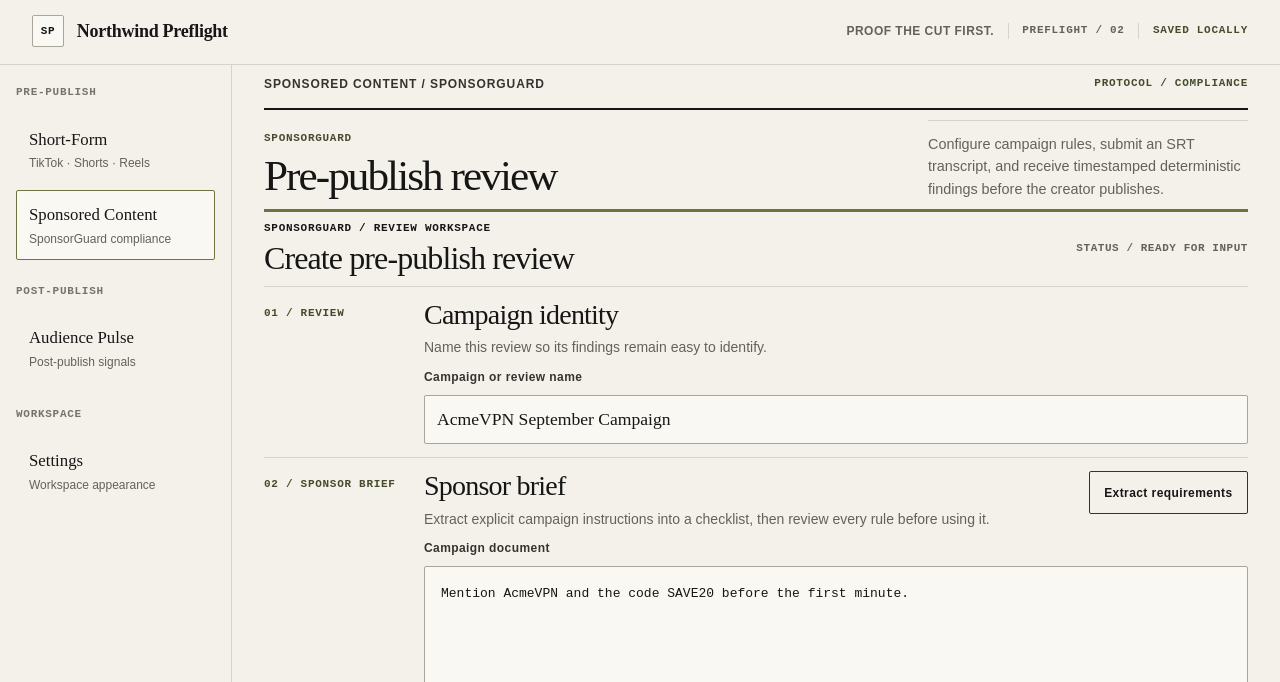
Test: language and color mode › does not rewrite user-authored branding or campaign copy when the locale changes
Expected: the field labelled "Campaign or review name" holds "AcmeVPN September Campaign", [424,395,1248,444]
What coordinates should you click on to do the following:
click the button "Settings Workspace appearance"
I would click on:
 (116, 471)
Its box is [16,436,215,506].
(page scrolled)
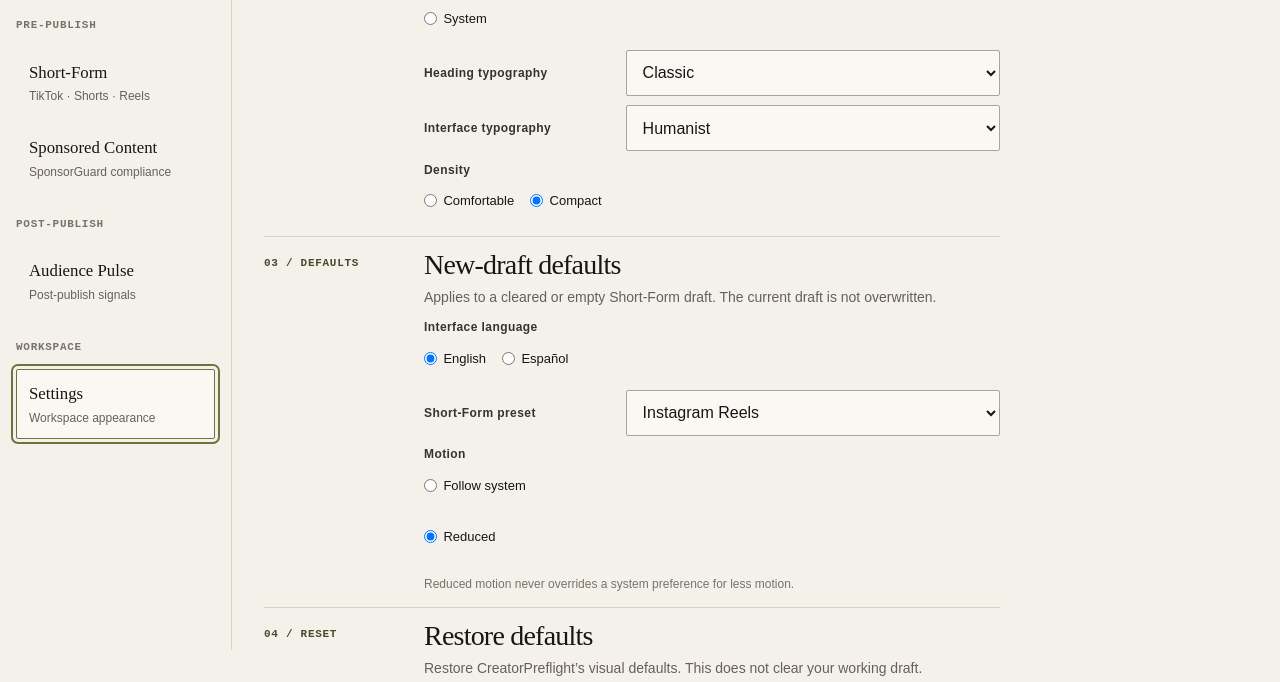
What coordinates should you click on to do the following:
click the radio button labelled "Español"
I would click on:
 (508, 358)
Its box is [502,352,515,365].
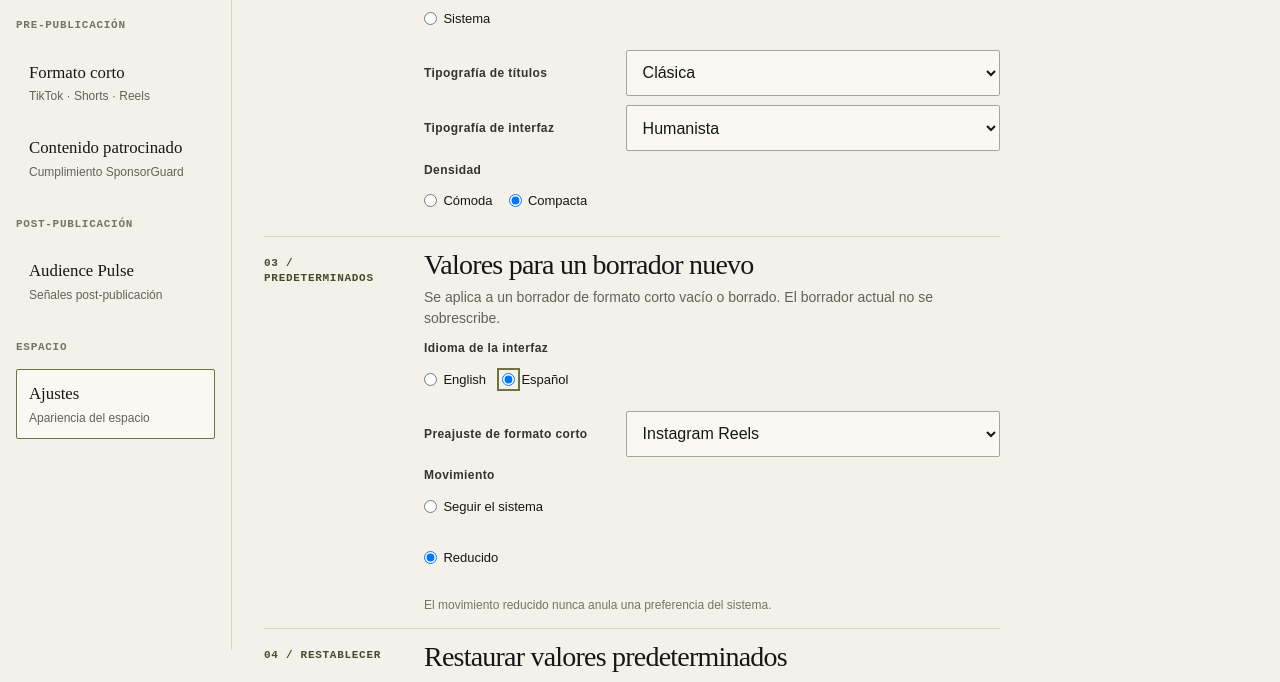
What coordinates should you click on to do the following:
click the button "Contenido patrocinado Cumplimiento SponsorGuard"
I would click on:
 (116, 158)
Its box is [16,122,215,192].
(page scrolled)
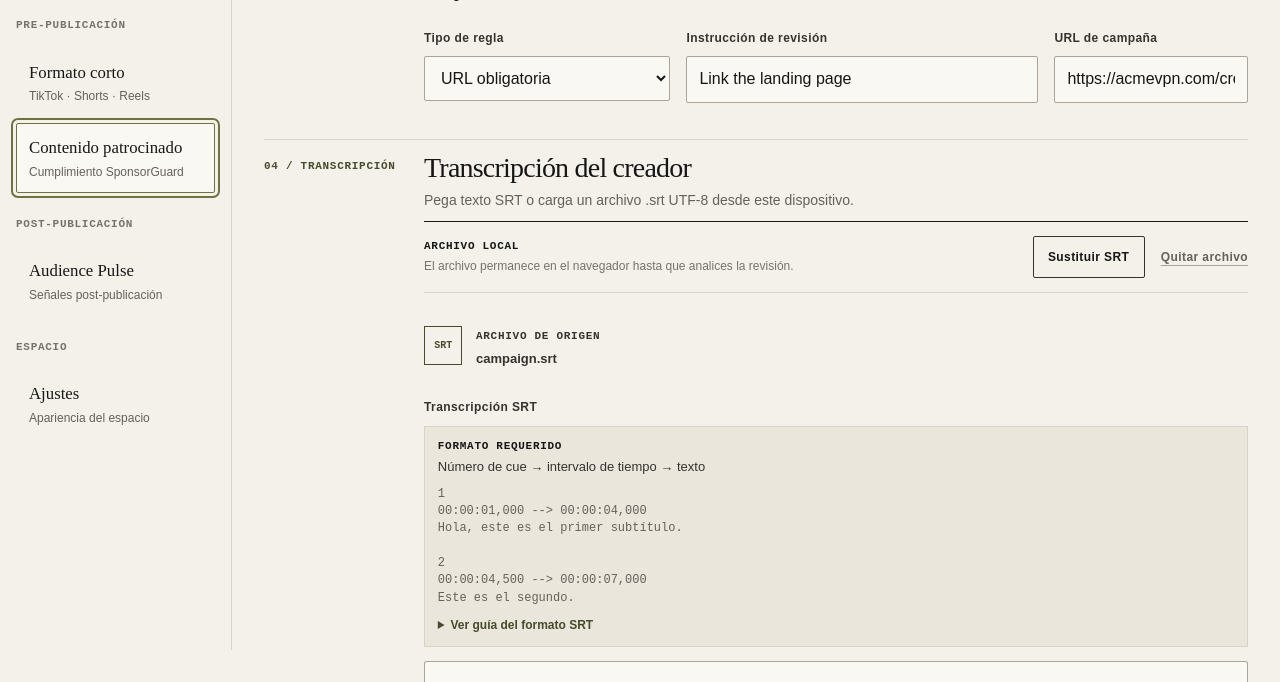
Expected: the field showing "https://acmevpn.com/creator" is shown, [1054,56,1248,103]
Expected: the text "campaign.srt" is shown, [476,351,557,366]
